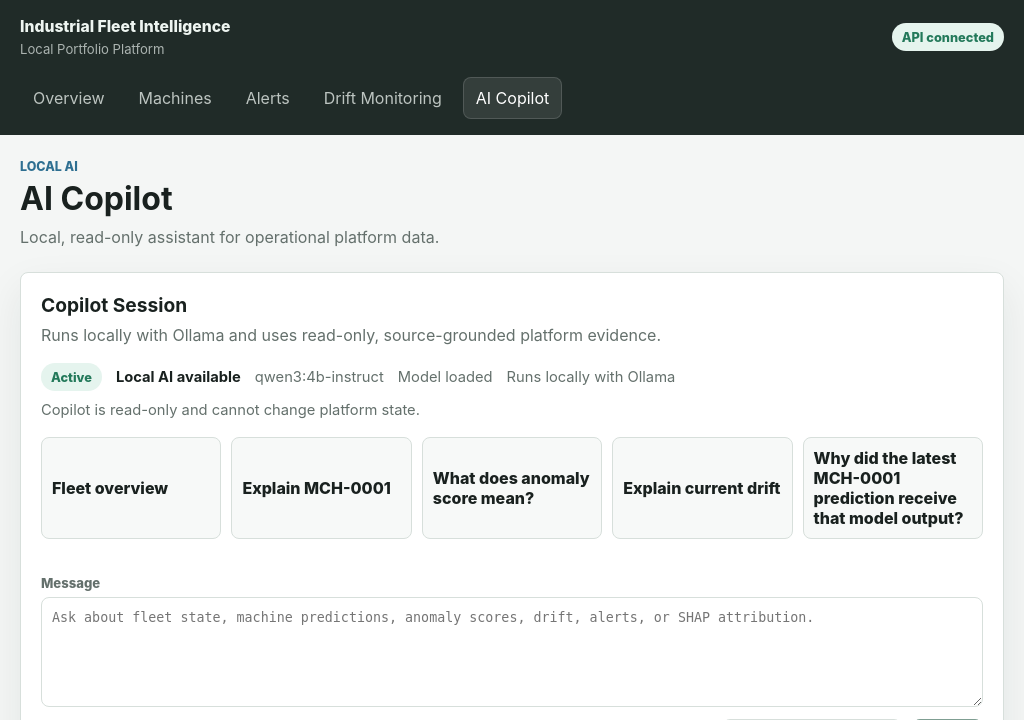
Test: dashboard routing and data states › submits a suggested copilot question and shows sources
The width and height of the screenshot is (1024, 720).
Click the button "Fleet overview" at (131, 488), box [41,437,221,539]
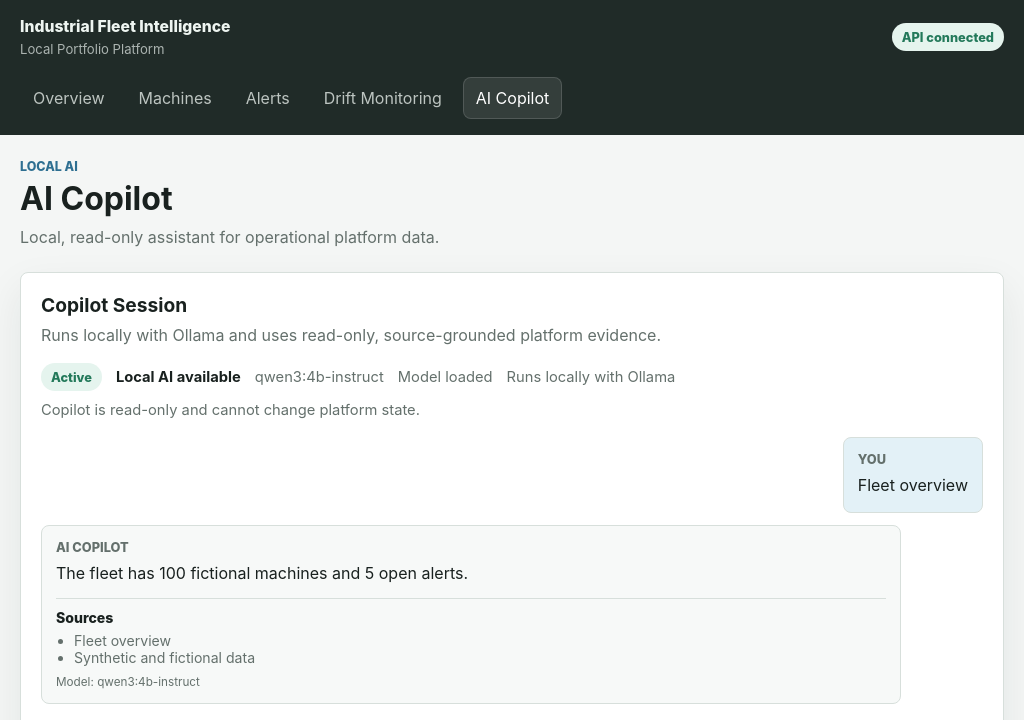
Expected: the text "The fleet has 100 fictional machines and 5 open alerts." is shown, [56,563,468,583]
Expected: the text "Sources" is shown, [56,609,113,626]
Expected: the text "Model: qwen3:4b-instruct" is shown, [56,675,200,689]
